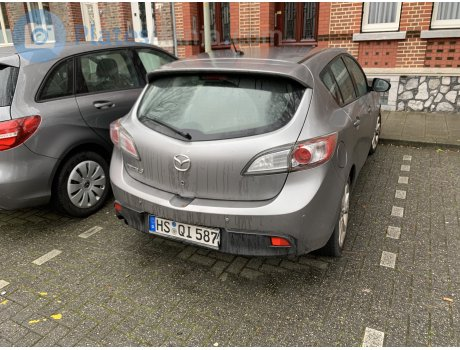License Plates: (149, 214, 220, 243)
